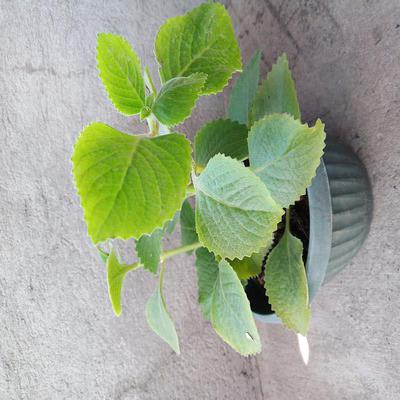Oregano: (61, 44, 322, 353)
